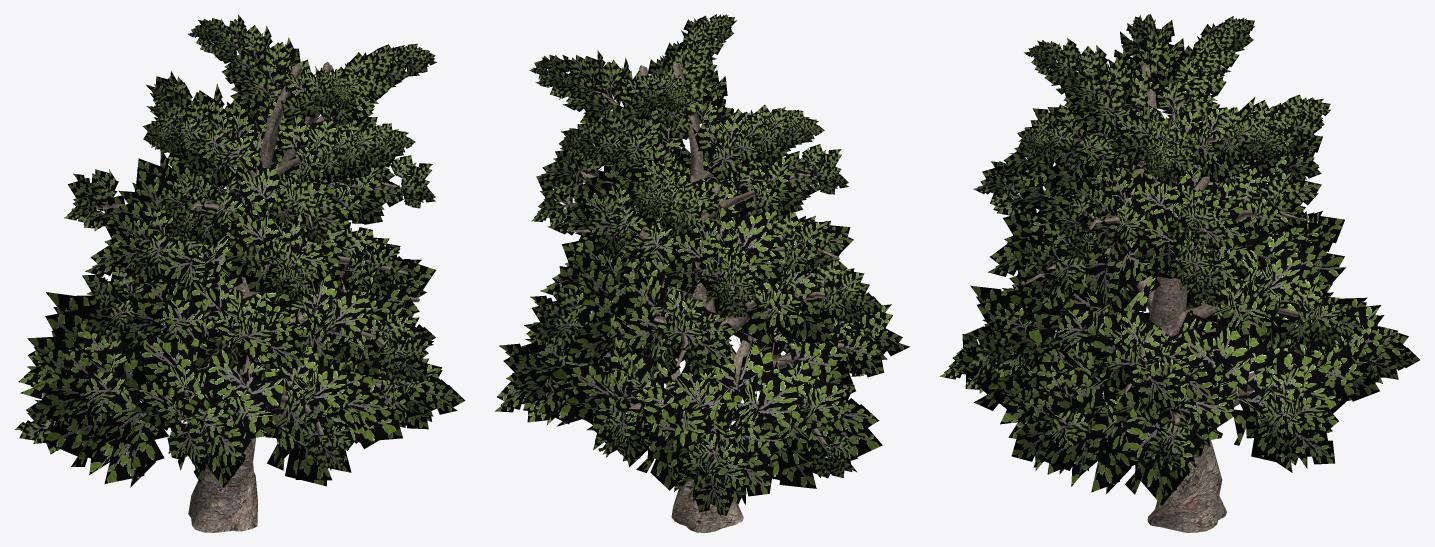
Rendered from tree24.glb.
3 renders of one model, left to right at view 1: azimuth 30°, elevation 25°; view 2: azimuth 150°, elevation 25°; view 3: azimuth 270°, elevation 25°, orthographic. The views are drawn at different scales.
Parts seen in each view (by area): view 1: Tree24; view 2: Tree24; view 3: Tree24.
Part boxes in pixels (x1=…): Tree24: x1=15, y1=14, x2=465, y2=532; Tree24: x1=495, y1=14, x2=909, y2=532; Tree24: x1=940, y1=14, x2=1419, y2=532.
Size of the model in its own units: 6.25 by 7.49 by 6.44.
Materials: 2 (2 with a texture image).
